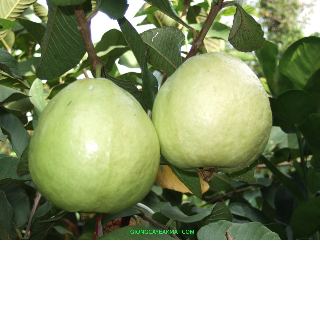oi: (25, 75, 162, 213), (148, 48, 273, 184)
